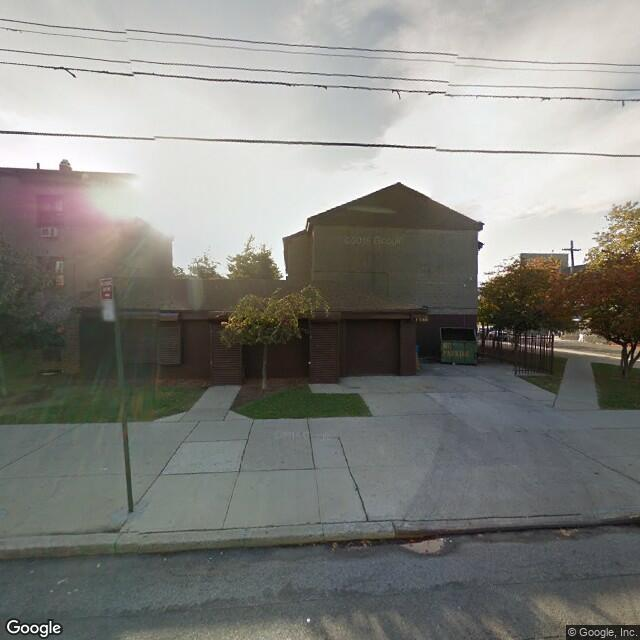litter: (305, 615, 311, 620), (102, 465, 107, 469)
